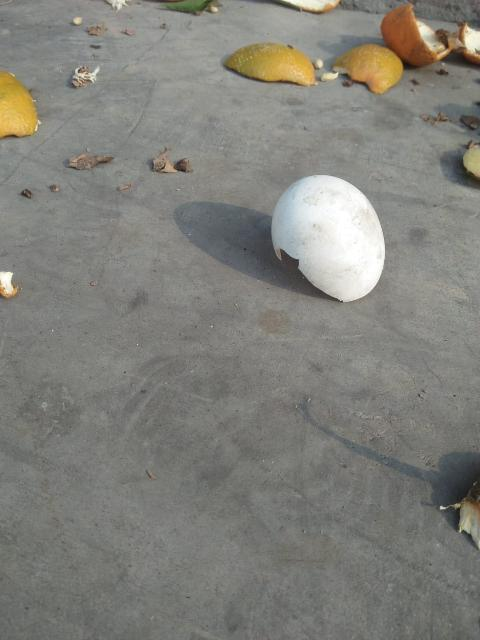Roto: (271, 173, 387, 304)
